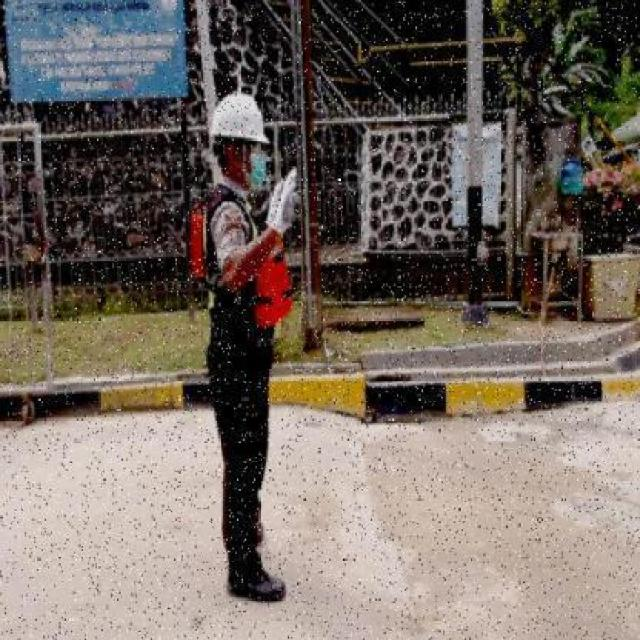Boots: (225, 554, 288, 606)
Gloves: (272, 170, 300, 236)
Helmet: (208, 90, 275, 148)
Mask: (238, 153, 270, 190)
Protective Glasses: (221, 140, 265, 157)
Vest: (187, 209, 298, 328)
